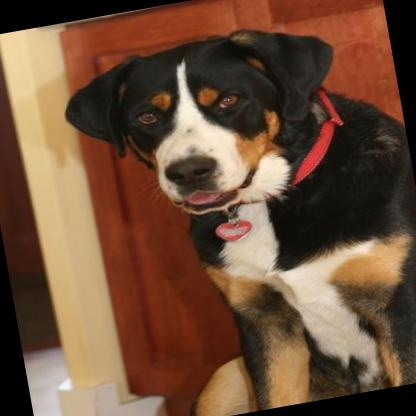Greater_Swiss_Mountain_dog: (49, 2, 416, 416)
